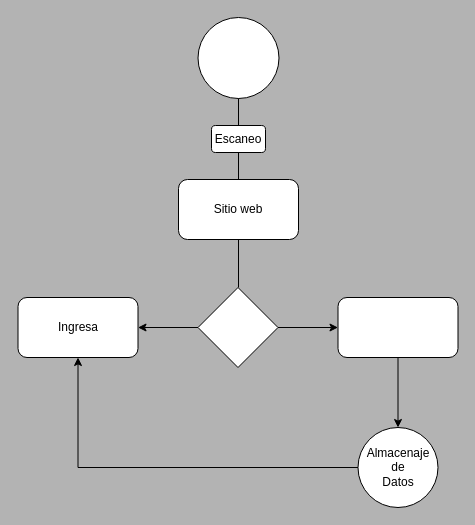
Some shapes in this 475 by 525 pixel diagram are drawn without their labels. Each missing label, with the centre of its shape:
Llega al gimnasio: the point at 238,57
Registra: the point at 397,327
